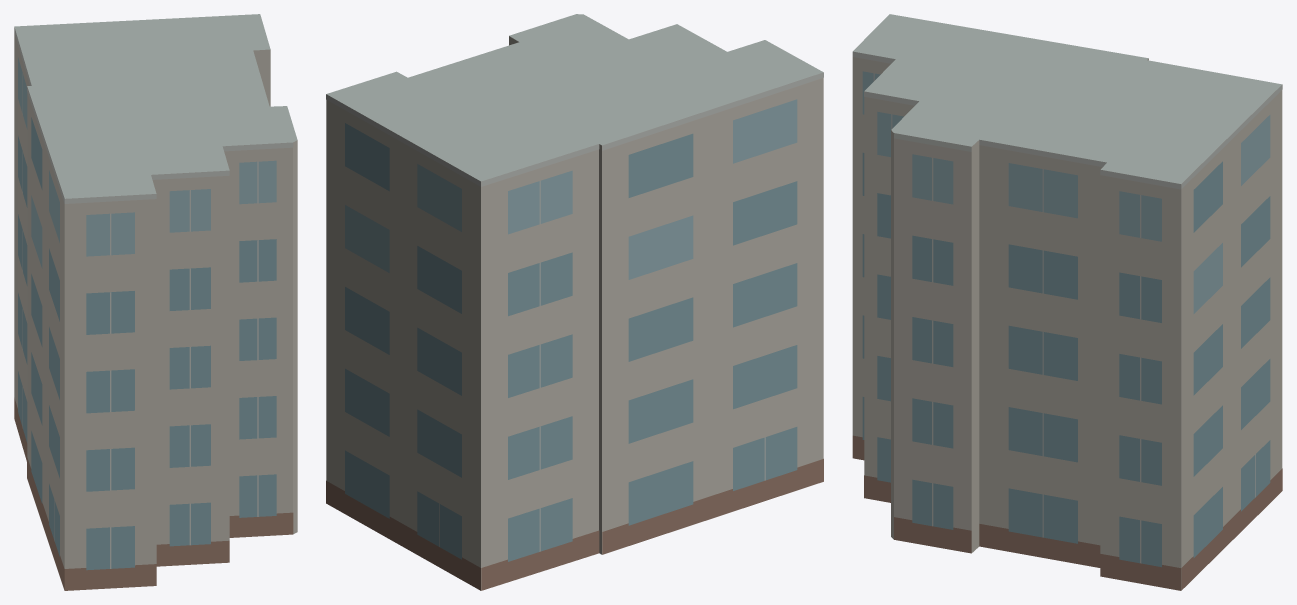
File: survey-upis-32905863.glb
The picture shows the model from 3 angles, left to right: view 1: azimuth 30°, elevation 25°; view 2: azimuth 150°, elevation 25°; view 3: azimuth 270°, elevation 25°; orthographic projection. The views are drawn at different scales.
Parts seen in each view (by area): view 1: survey-upis-32905863.tmp; view 2: survey-upis-32905863.tmp; view 3: survey-upis-32905863.tmp.
Boxes of the visible parts, x1=… form: survey-upis-32905863.tmp: x1=14, y1=14, x2=297, y2=590; survey-upis-32905863.tmp: x1=326, y1=14, x2=823, y2=590; survey-upis-32905863.tmp: x1=852, y1=14, x2=1282, y2=590.
Size of the model in its own units: 16.51 by 18.4 by 17.63.
